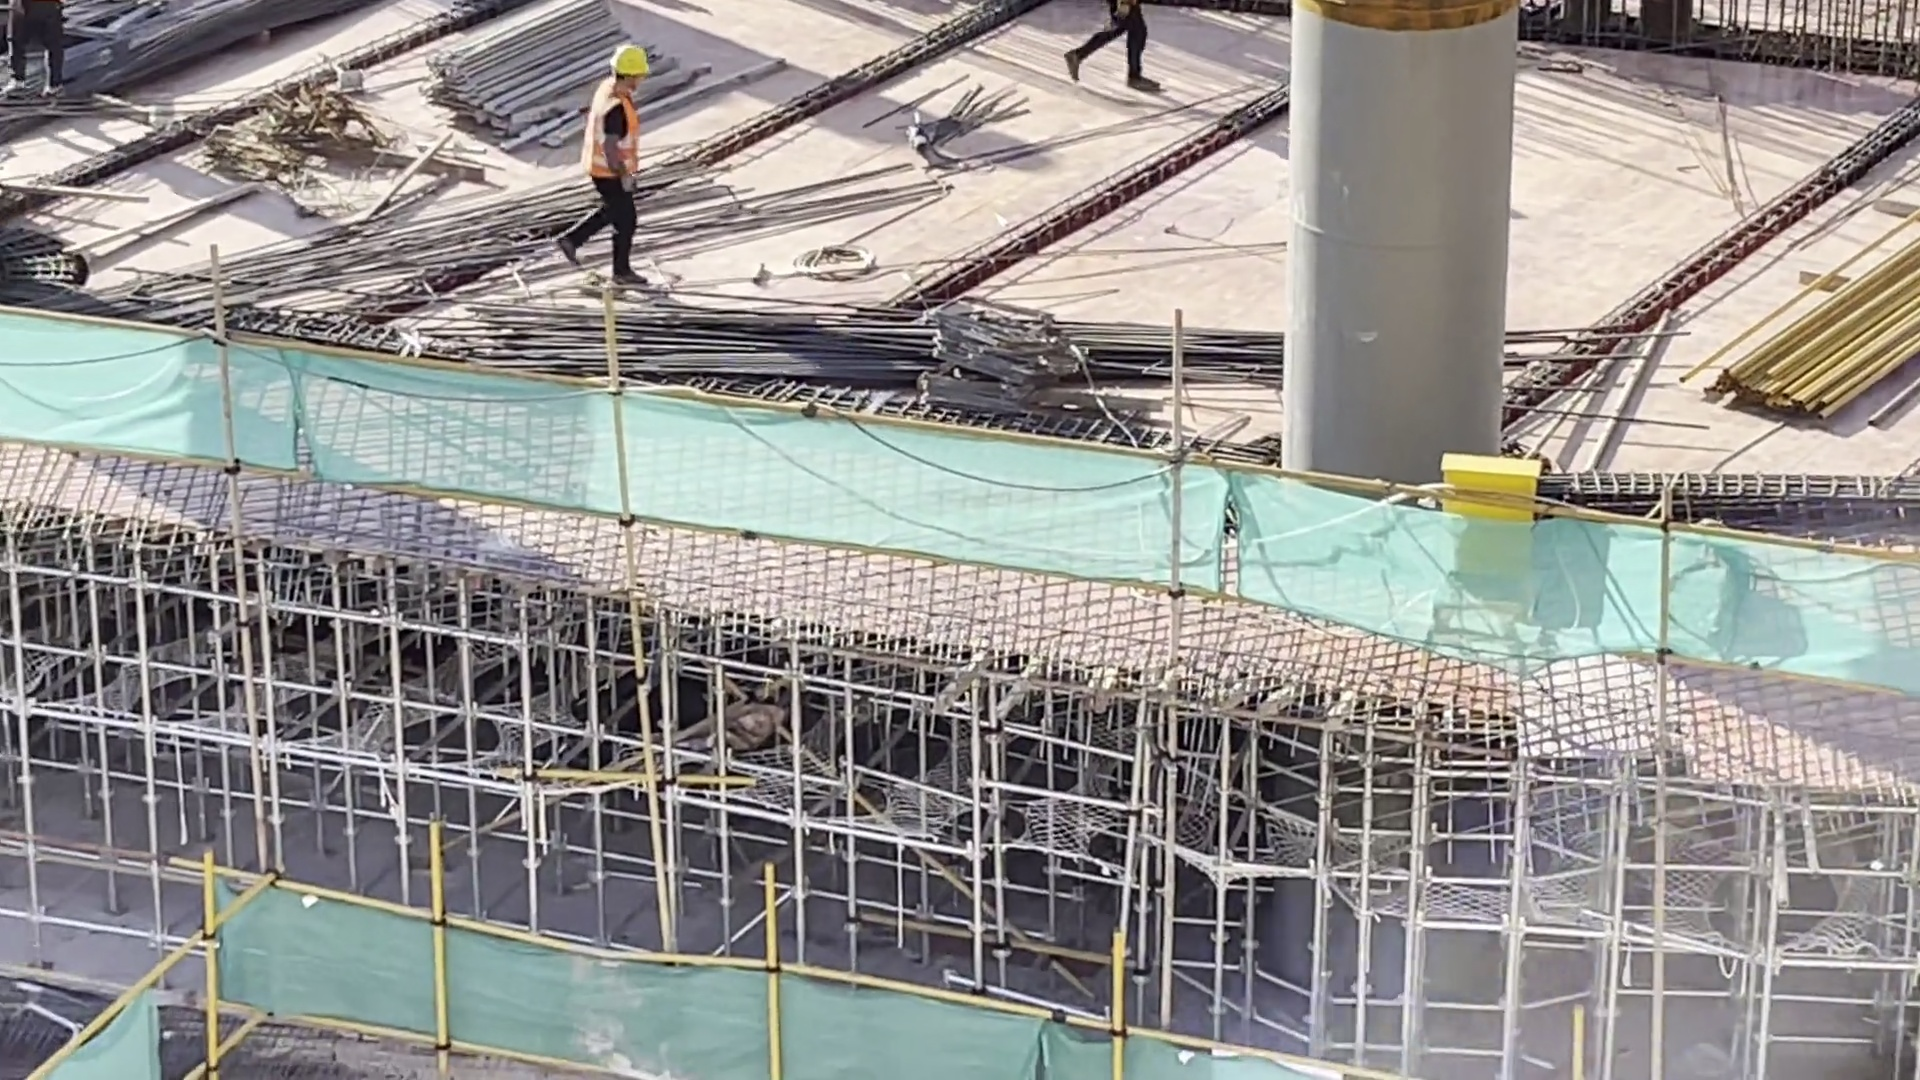helmet: (600, 44, 655, 87)
person: (558, 34, 664, 301), (1059, 1, 1190, 118)
vest: (575, 83, 646, 193)
